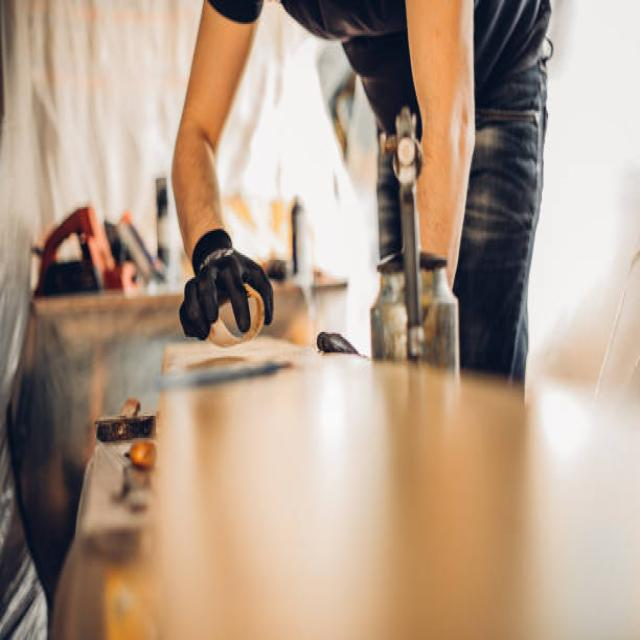gloves: (181, 226, 277, 340)
